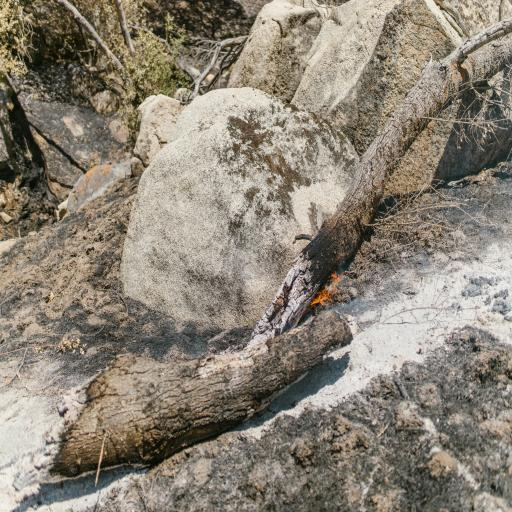fire: (252, 253, 374, 354)
